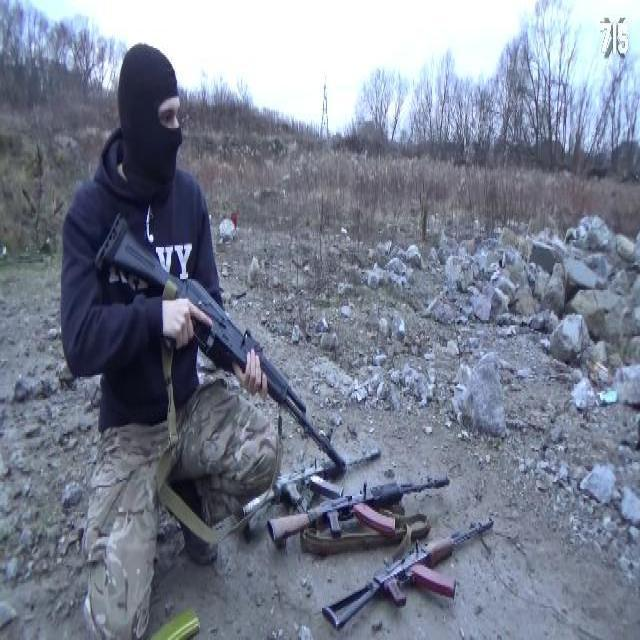pistol: (94, 207, 347, 475), (328, 517, 498, 634), (273, 473, 454, 543), (240, 444, 386, 516)
